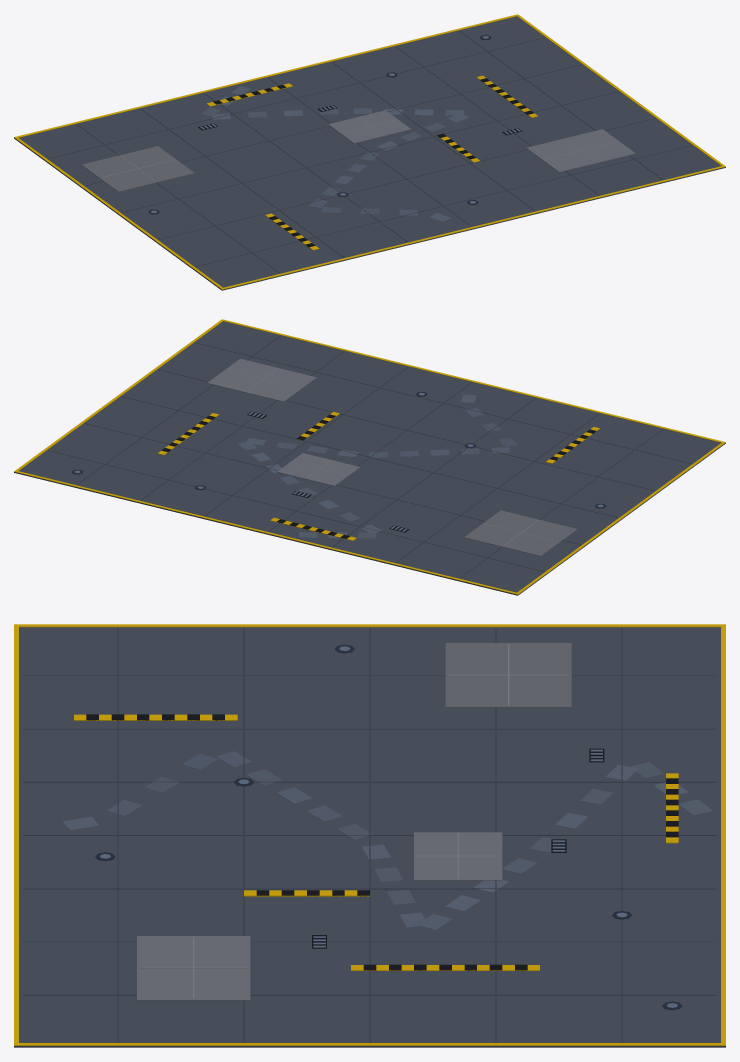
File: Decor_MechaHangar_Floor.fbx
The picture shows the model from 3 angles, top to bottom: view 1: azimuth 30°, elevation 25°; view 2: azimuth 150°, elevation 25°; view 3: azimuth 270°, elevation 25°; orthographic projection. The views are drawn at different scales.
Parts seen in each view (by area): view 1: Floor_Body; view 2: Floor_Body; view 3: Floor_Body.
Part boxes in pixels (x1=…): Floor_Body: x1=14, y1=14, x2=725, y2=290; Floor_Body: x1=14, y1=319, x2=725, y2=595; Floor_Body: x1=14, y1=624, x2=725, y2=1047.
Bounding box in the file's own units: 158 × 0.5 × 113.
